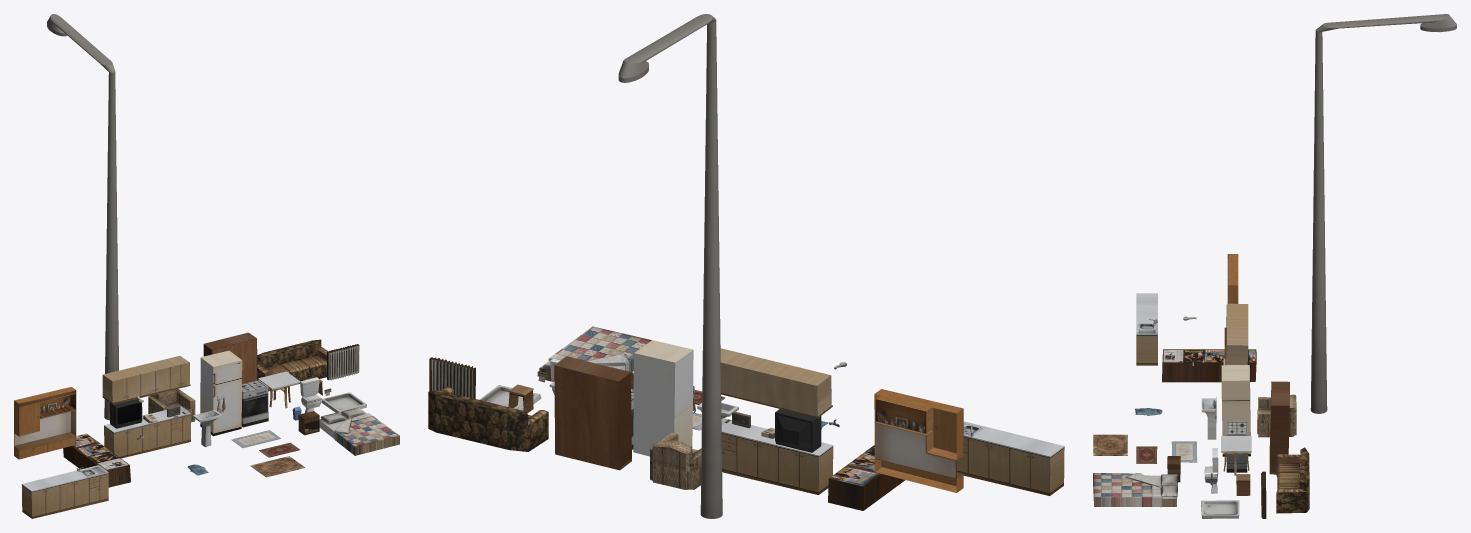
The model's file is street light and house stuff .fbx.
3 renders of one model, left to right at view 1: azimuth 30°, elevation 25°; view 2: azimuth 150°, elevation 25°; view 3: azimuth 270°, elevation 25°, orthographic. The views are drawn at different scales.
Parts seen in each view (by area): view 1: Circle.049, rafia.001, kitchen sink.001, fridge.001, doulapia.001, pagos.001, bed.001, big sofa.001, wooden with magazines.001, closet.001, oven.001, kalorifer.001 (+9 smaller); view 2: Circle.049, closet.001, rafia.001, fridge.001, kitchen sink.001, pagos.001, doulapia.001, big sofa.001, wooden with magazines.001, bed.001, small sofa.001, TV.001 (+1 smaller); view 3: Circle.049, bed.001, wooden with magazines.001, big sofa.001, fridge.001, kitchen sink.001, closet.001, doulapia.001, small sofa.001, carpet 2.001, bath floor.001, oven.001 (+5 smaller).
Part boxes in pixels (<box>): Circle.049: <box>47,14,118,420</box>; rafia.001: <box>14,387,76,459</box>; kitchen sink.001: <box>21,465,108,518</box>; fridge.001: <box>200,350,242,436</box>; doulapia.001: <box>102,356,190,404</box>; pagos.001: <box>104,406,190,458</box>; bed.001: <box>319,407,399,455</box>; big sofa.001: <box>257,339,328,391</box>; wooden with magazines.001: <box>63,433,130,487</box>; closet.001: <box>203,332,257,384</box>; oven.001: <box>241,380,268,427</box>; kalorifer.001: <box>327,344,359,380</box>; Circle.049: <box>618,14,722,518</box>; closet.001: <box>554,356,631,470</box>; rafia.001: <box>874,389,963,492</box>; fridge.001: <box>633,340,693,456</box>; kitchen sink.001: <box>956,421,1064,495</box>; pagos.001: <box>721,418,833,494</box>; doulapia.001: <box>720,348,832,418</box>; big sofa.001: <box>428,387,548,451</box>; wooden with magazines.001: <box>828,445,905,510</box>; bed.001: <box>539,326,651,381</box>; small sofa.001: <box>650,432,701,489</box>; TV.001: <box>775,409,821,452</box>; Circle.049: <box>1310,14,1456,413</box>; bed.001: <box>1093,473,1178,507</box>; wooden with magazines.001: <box>1162,349,1256,382</box>; big sofa.001: <box>1276,447,1309,513</box>; fridge.001: <box>1221,365,1250,456</box>; kitchen sink.001: <box>1136,293,1157,365</box>; closet.001: <box>1269,381,1289,474</box>; doulapia.001: <box>1224,303,1248,365</box>; small sofa.001: <box>1257,394,1296,437</box>; carpet 2.001: <box>1093,434,1127,455</box>; bath floor.001: <box>1201,500,1239,518</box>; oven.001: <box>1226,421,1247,472</box>.
Size of the model in its own units: 1651 by 1487 by 1230.
2 materials, 1 textured.
